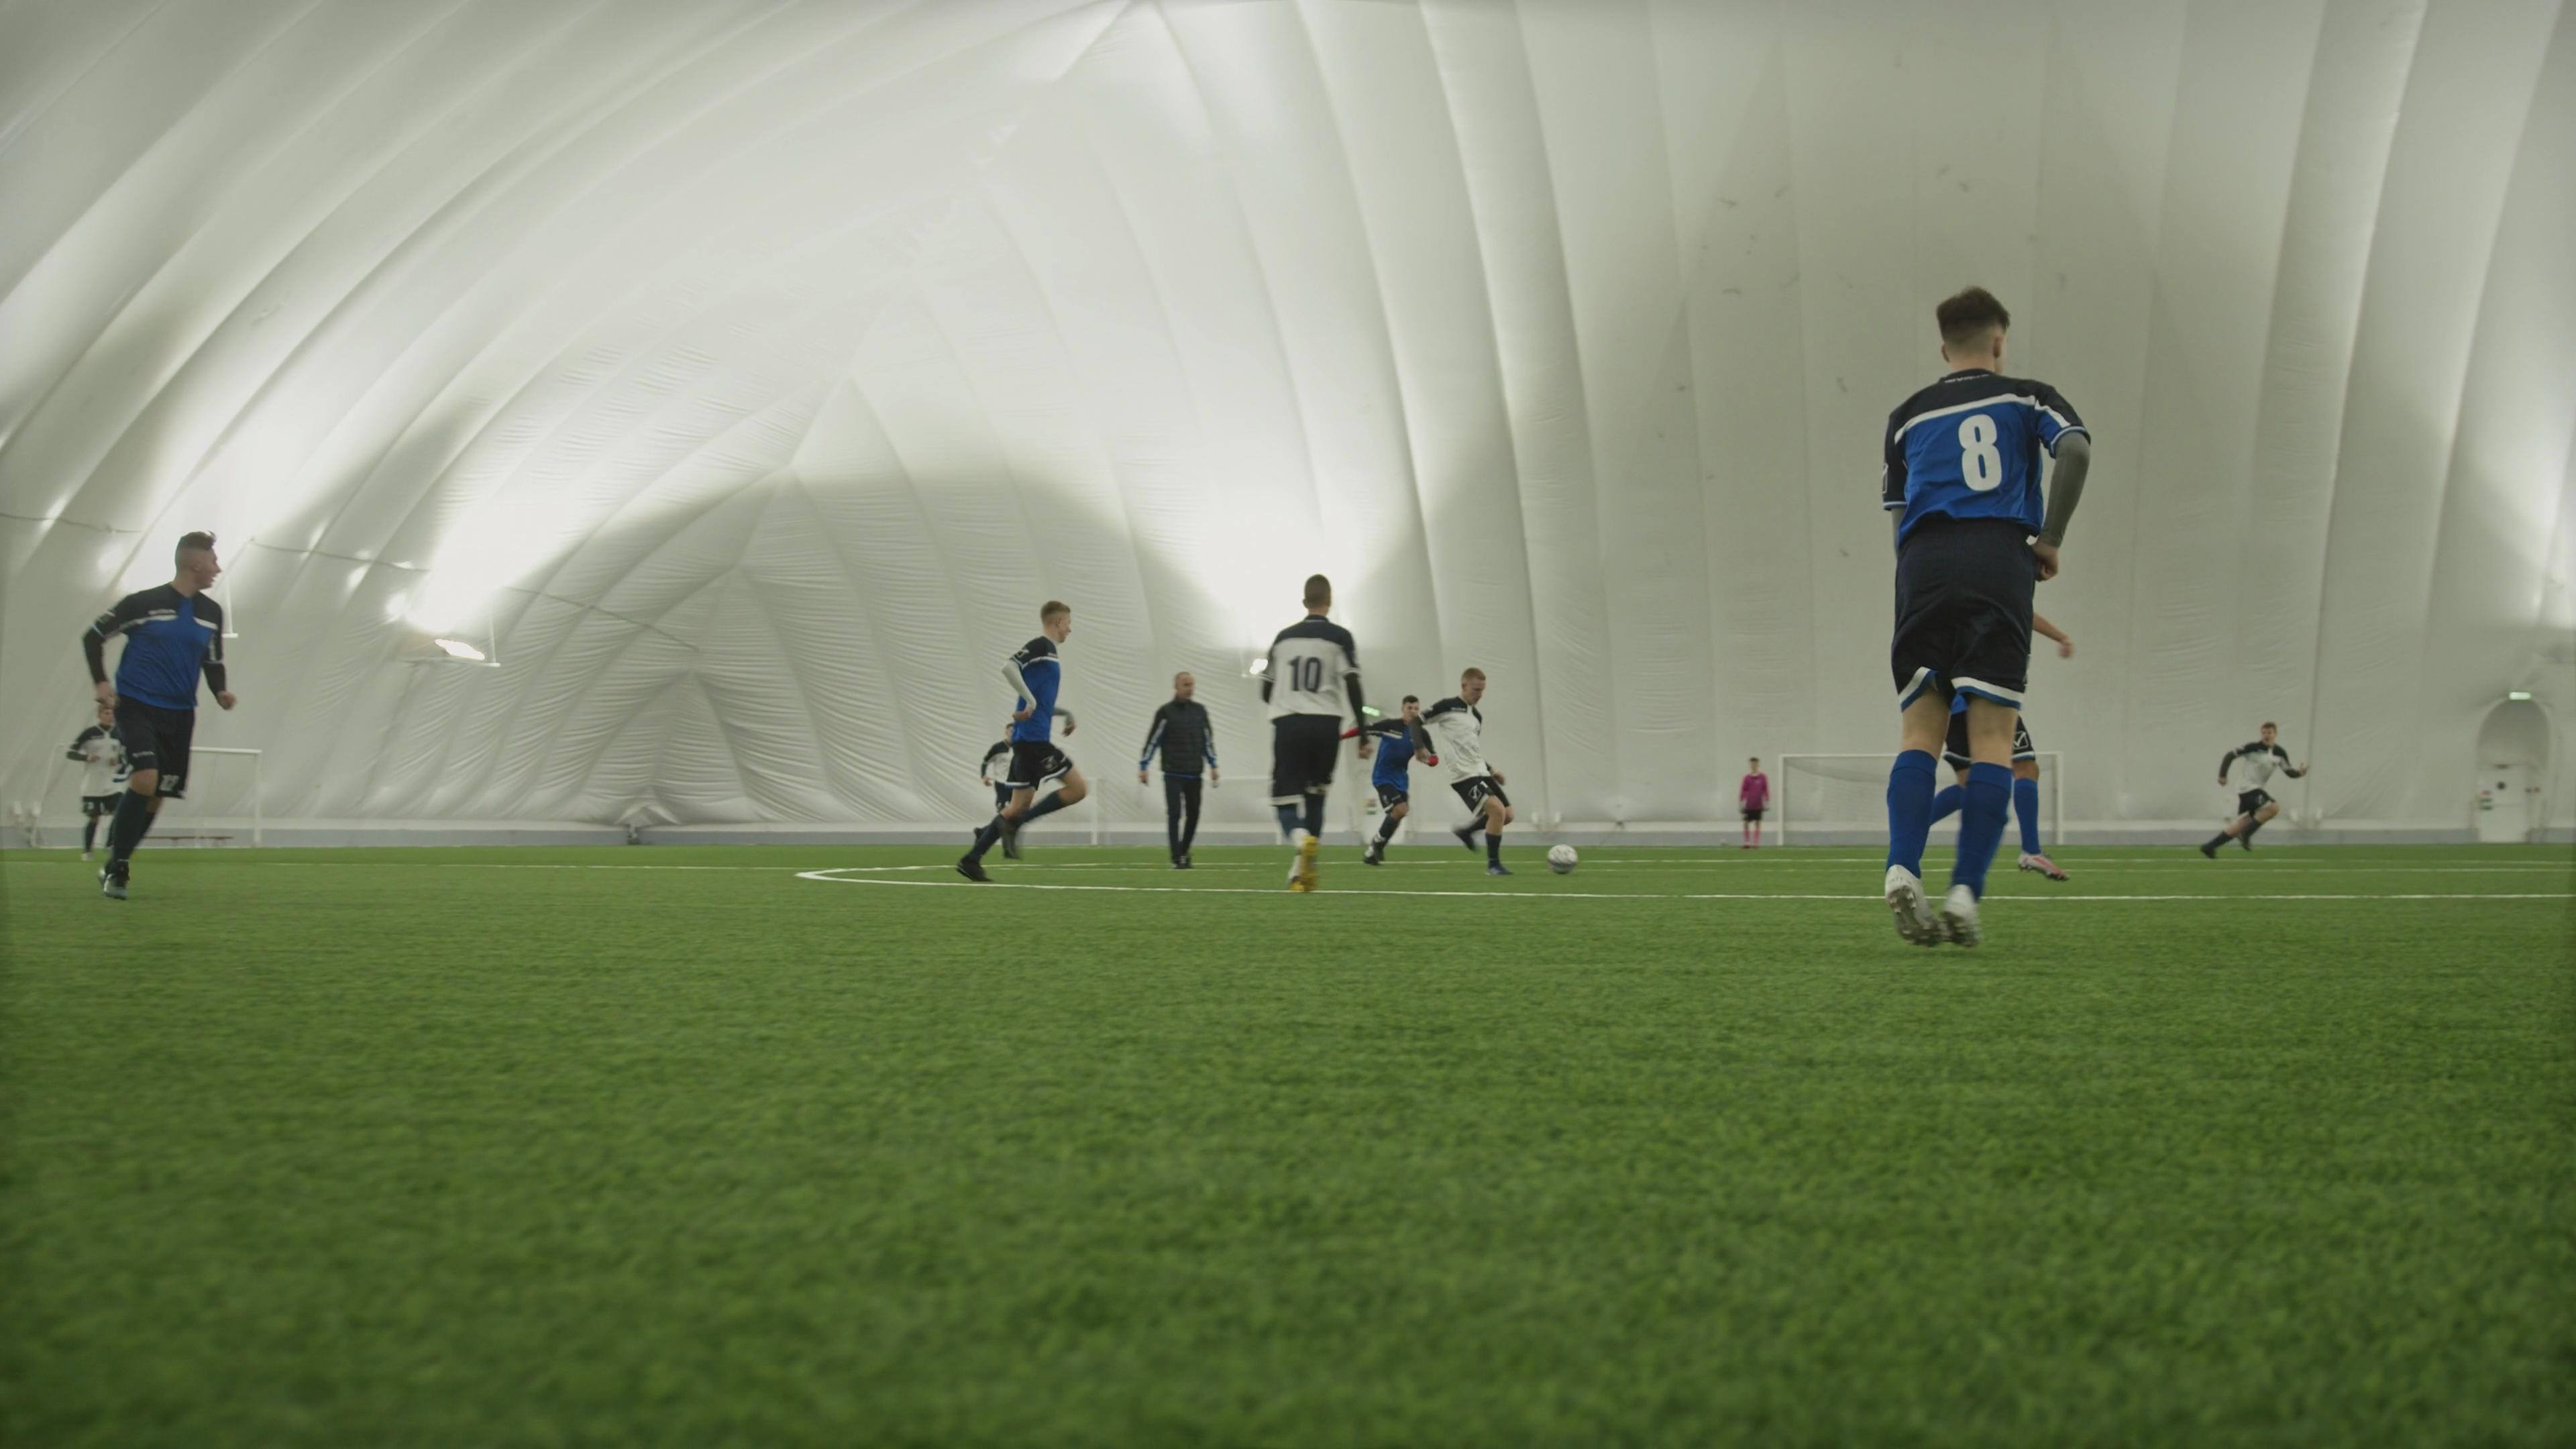other: (1138, 671, 1223, 872)
team1: (1877, 281, 2091, 950), (78, 529, 239, 901), (959, 594, 1090, 879), (1361, 699, 1433, 867)
team1gk: (1736, 759, 1769, 849)
team2: (1258, 573, 1369, 892), (1412, 665, 1518, 876), (2199, 718, 2311, 860), (62, 697, 129, 863)
